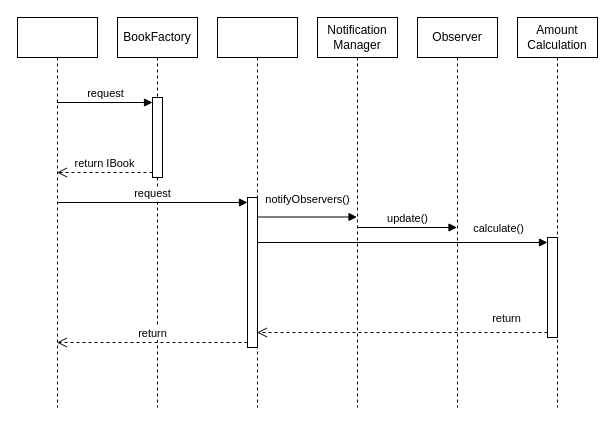
The diagram is 615 pixels wide and 425 high, and some of its shapes have lost their labels. The shapes that lost their labels are listed below. From the top down, each one's box as (x1, y1, x2, y2) in pixels, then its label:
(16, 16, 98, 408): App
(216, 16, 298, 408): Process
